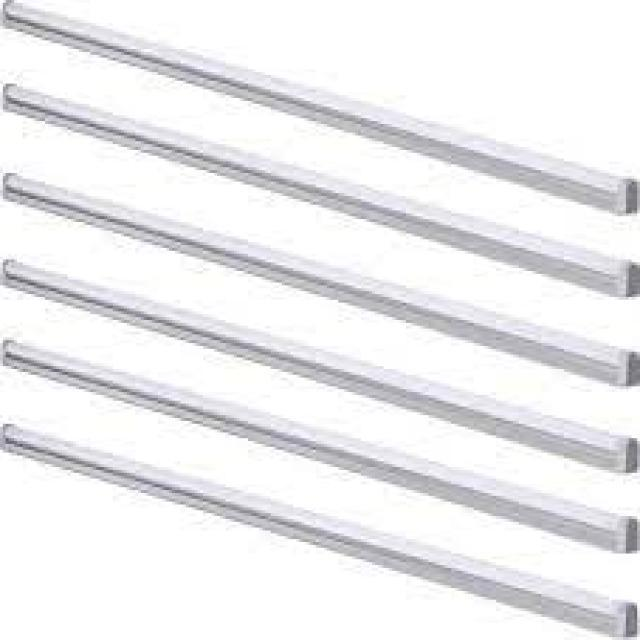tubelight_off: (0, 245, 640, 480), (0, 419, 640, 640)
